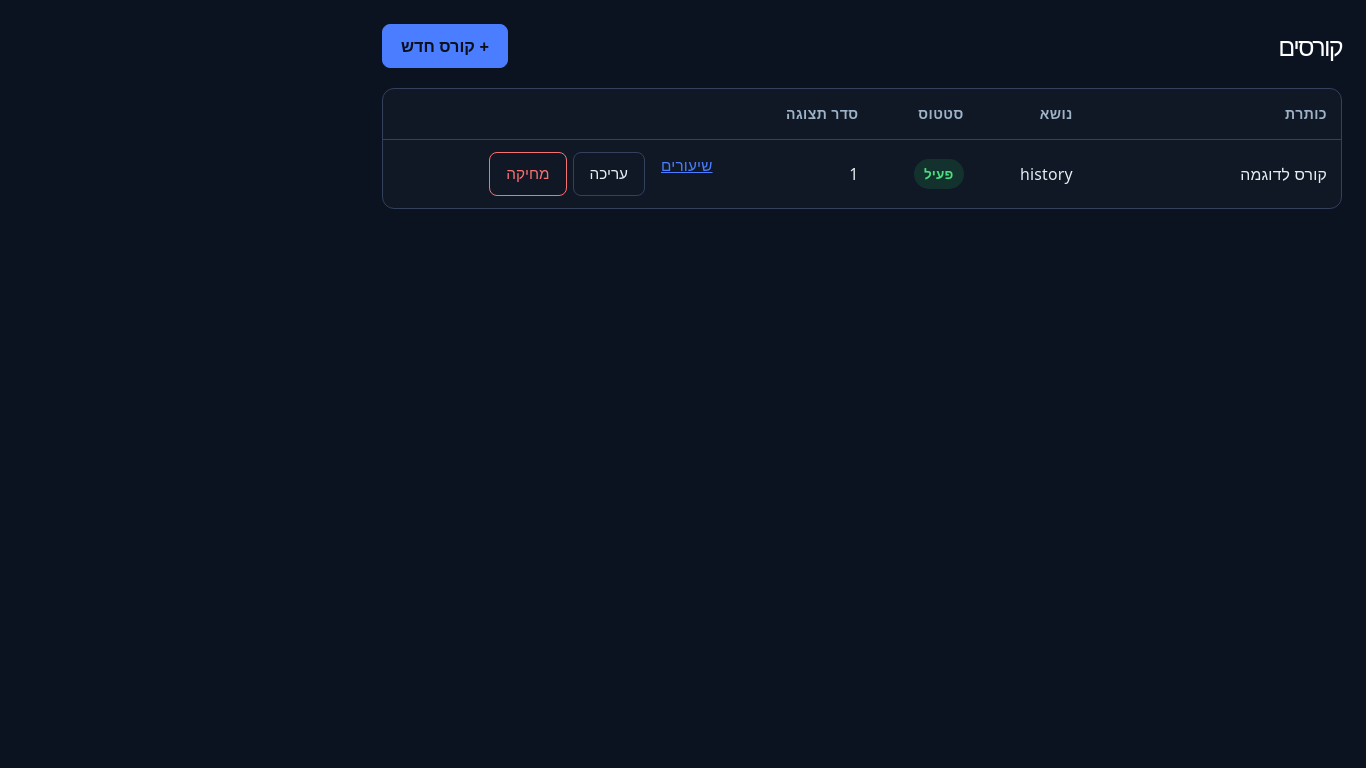
AdminCourses › creates a course once required fields are filled in
The image size is (1366, 768).
Click the button "+ קורס חדש" at {"x": 445, "y": 46}, box left=382, top=24, right=508, bottom=68
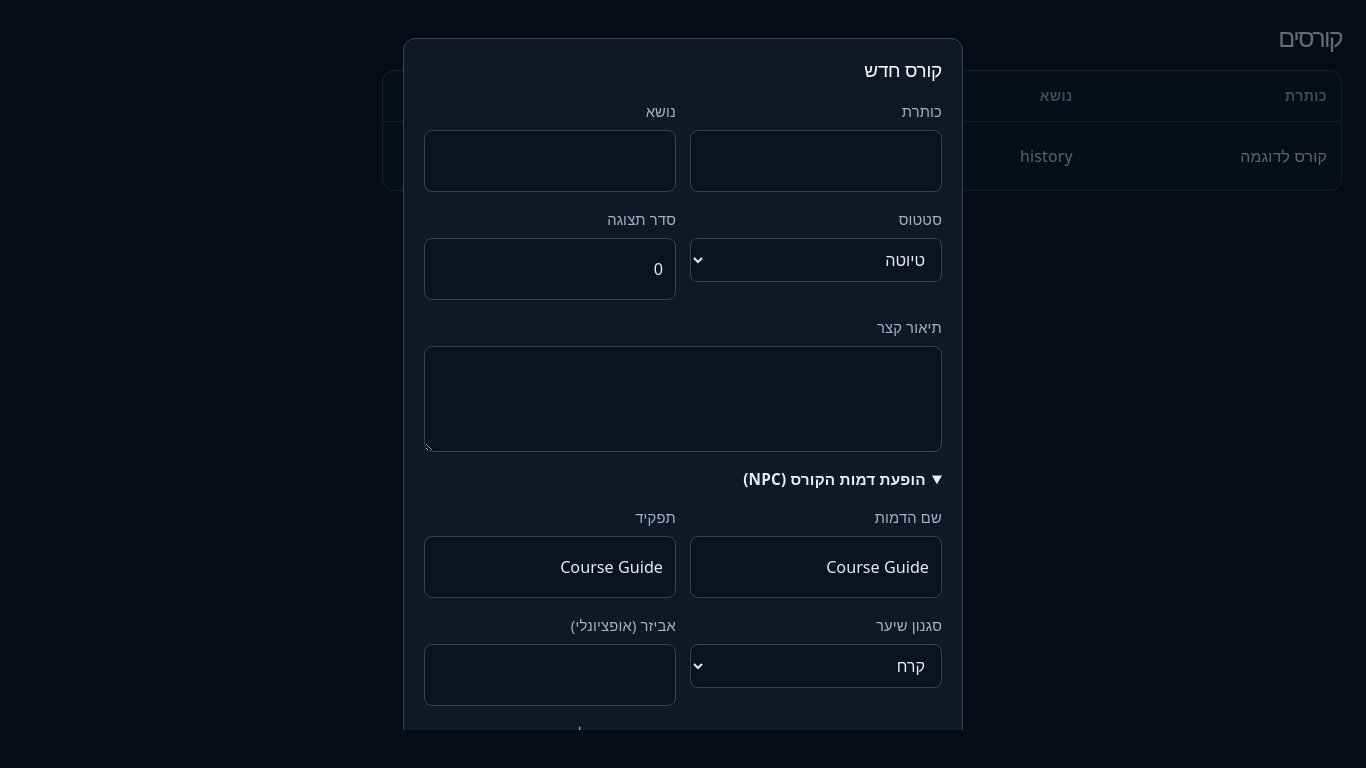
Type "קורס חדש" into the field labelled "כותרת" at {"x": 816, "y": 161}, box left=690, top=130, right=942, bottom=192
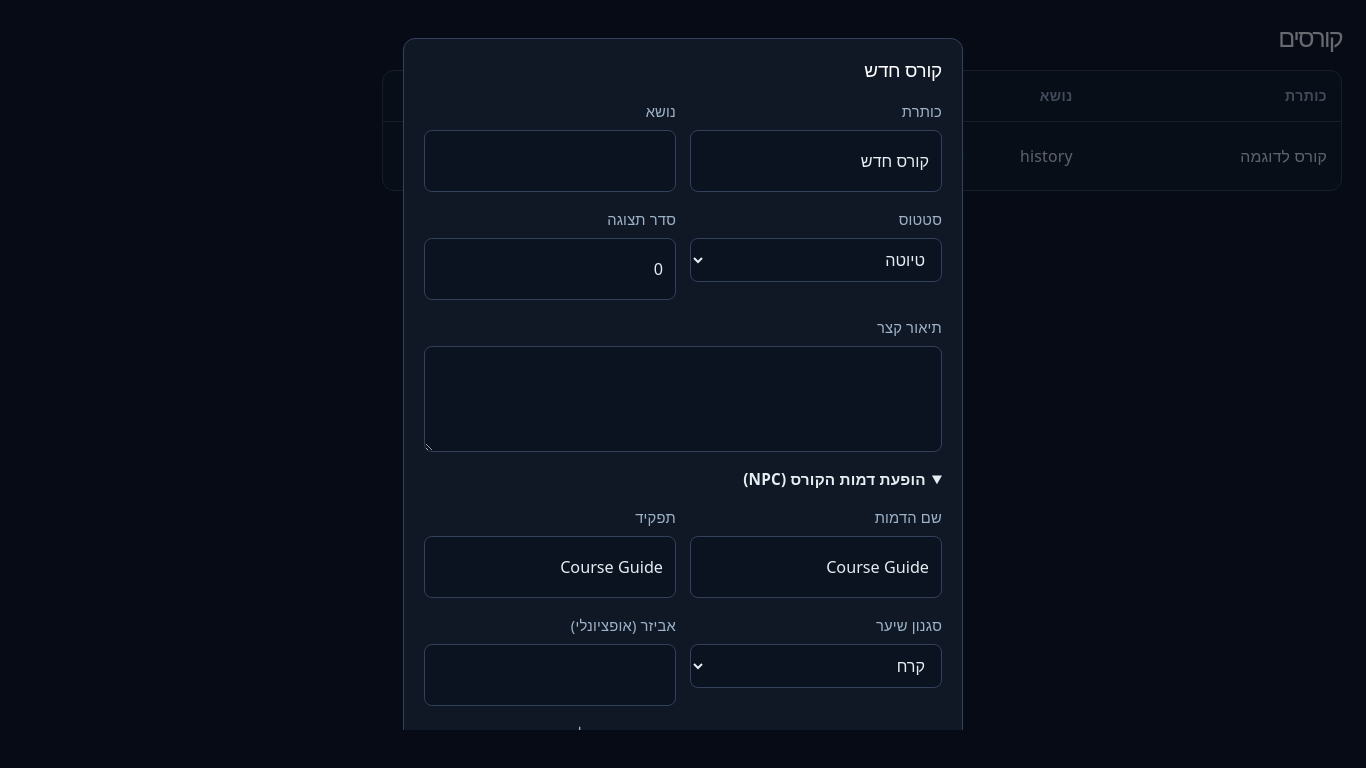
Type "history" into the field labelled "נושא" at {"x": 550, "y": 161}, box left=424, top=130, right=676, bottom=192
(page scrolled)
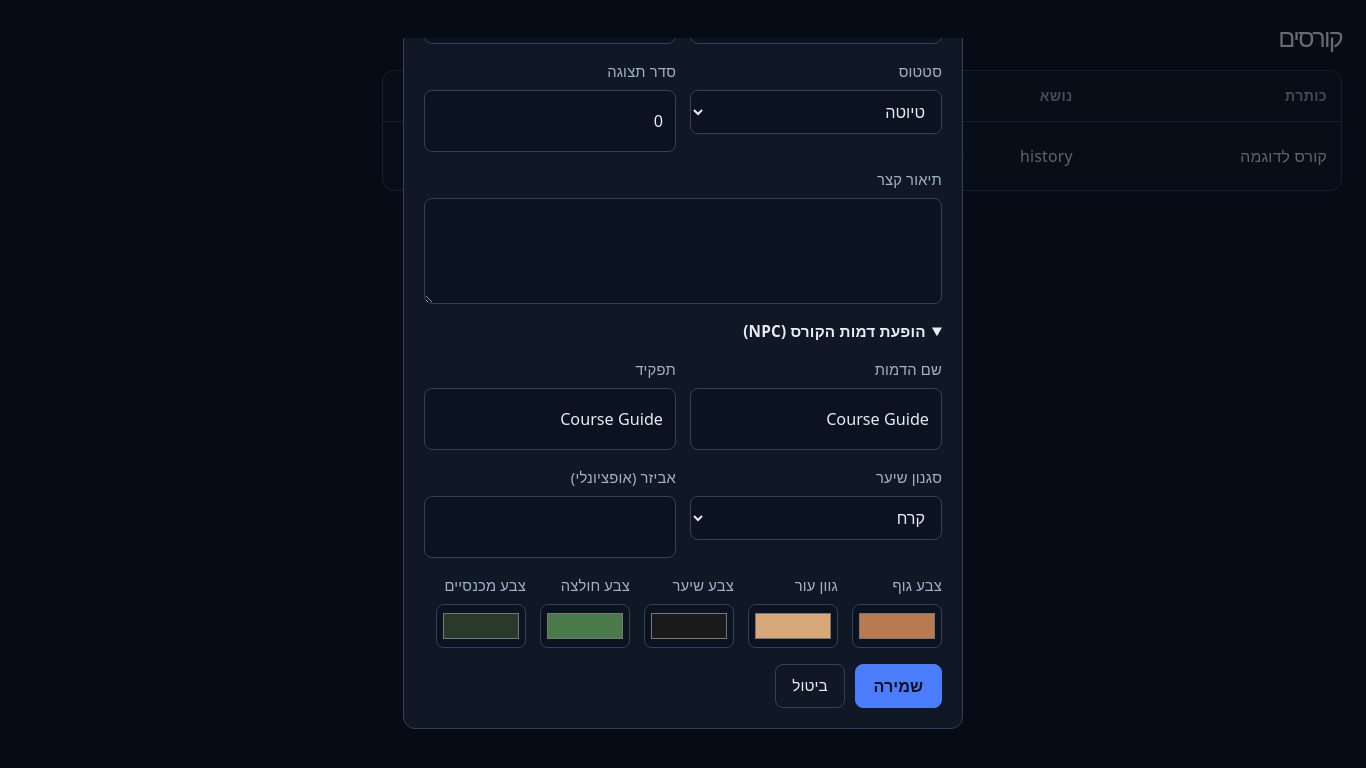
Click the button "שמירה" at {"x": 898, "y": 686}, box left=854, top=664, right=942, bottom=708
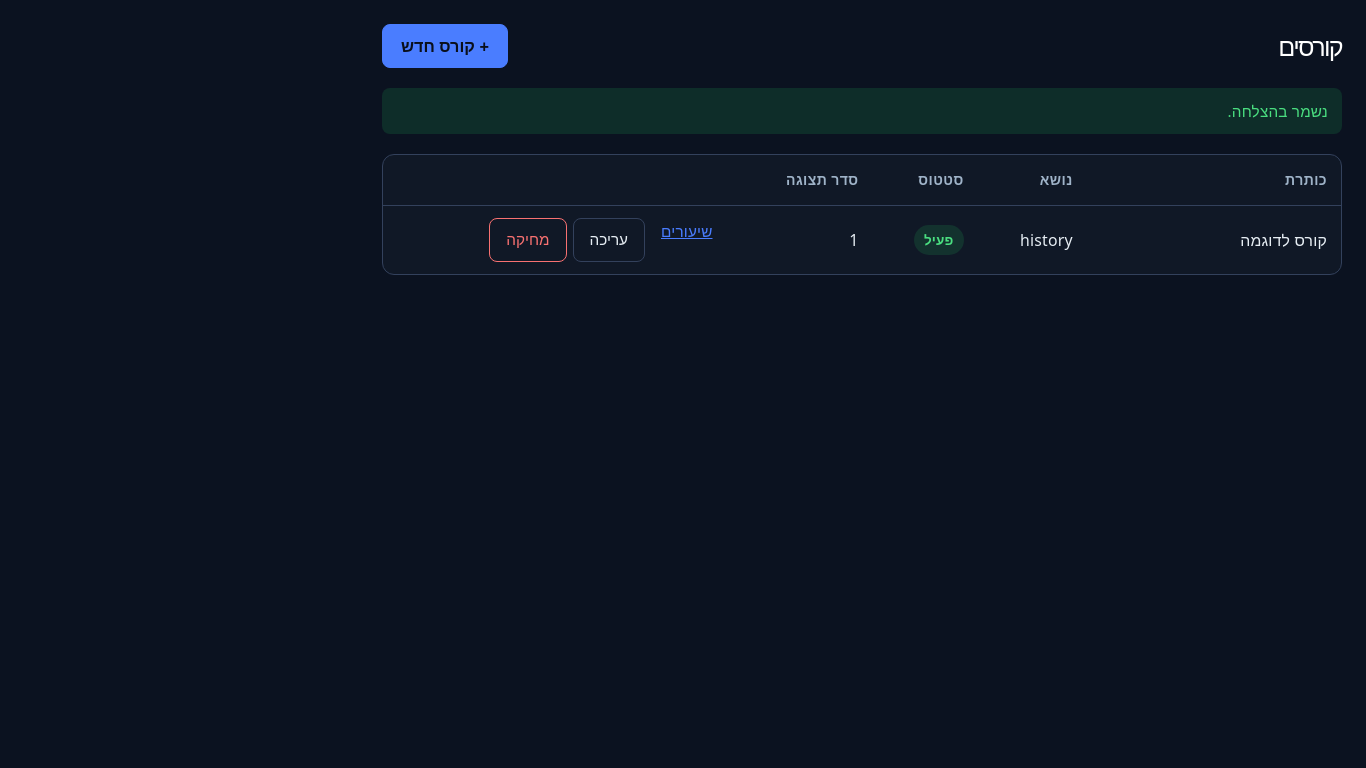
Check: the text "נשמר בהצלחה." is shown, box left=382, top=88, right=1342, bottom=134
